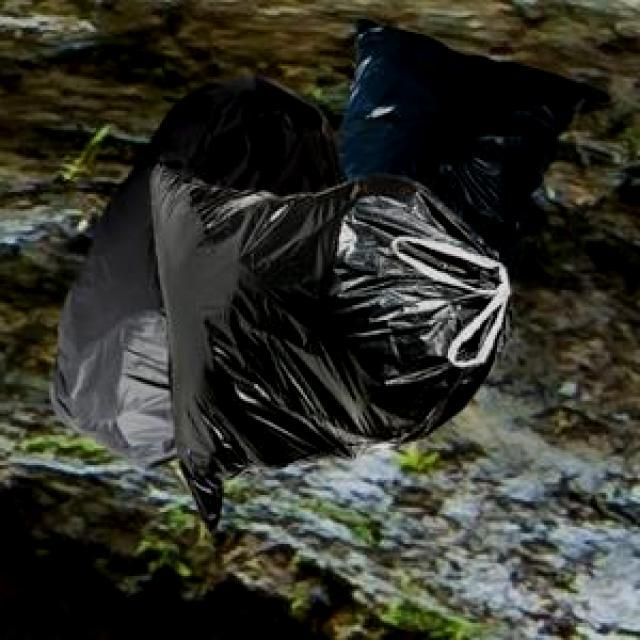Trashbag: (131, 153, 516, 537), (332, 8, 590, 200)
